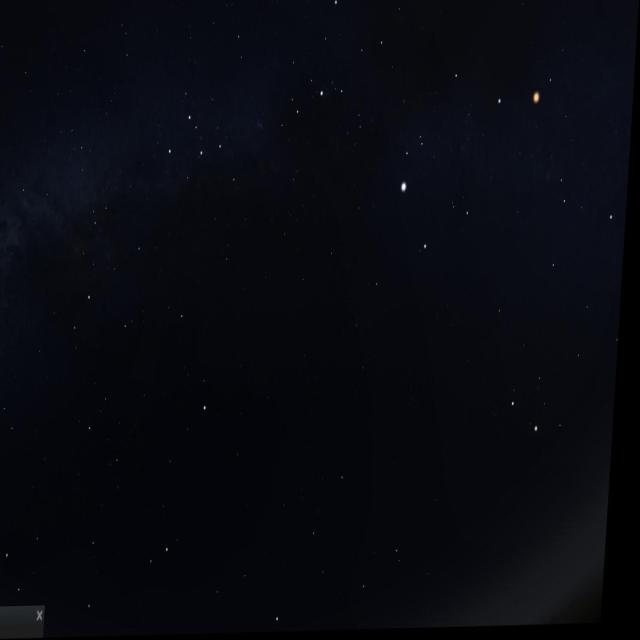cassiopeia: (166, 107, 254, 209)
